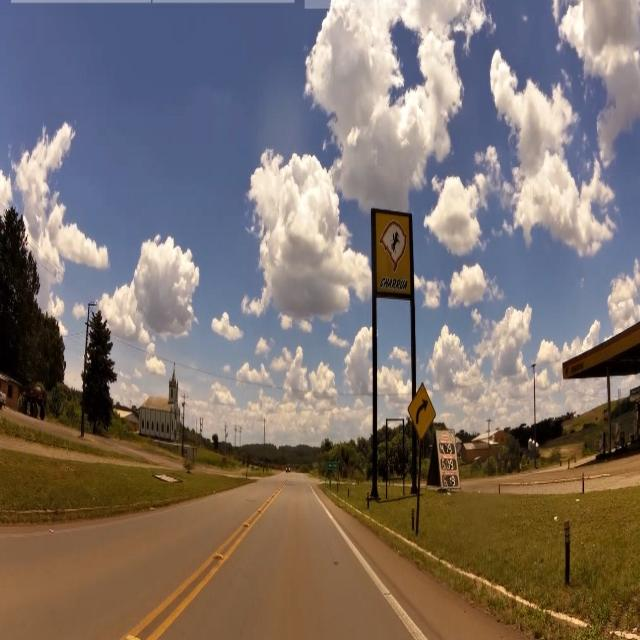A-2b: (409, 380, 435, 446)
